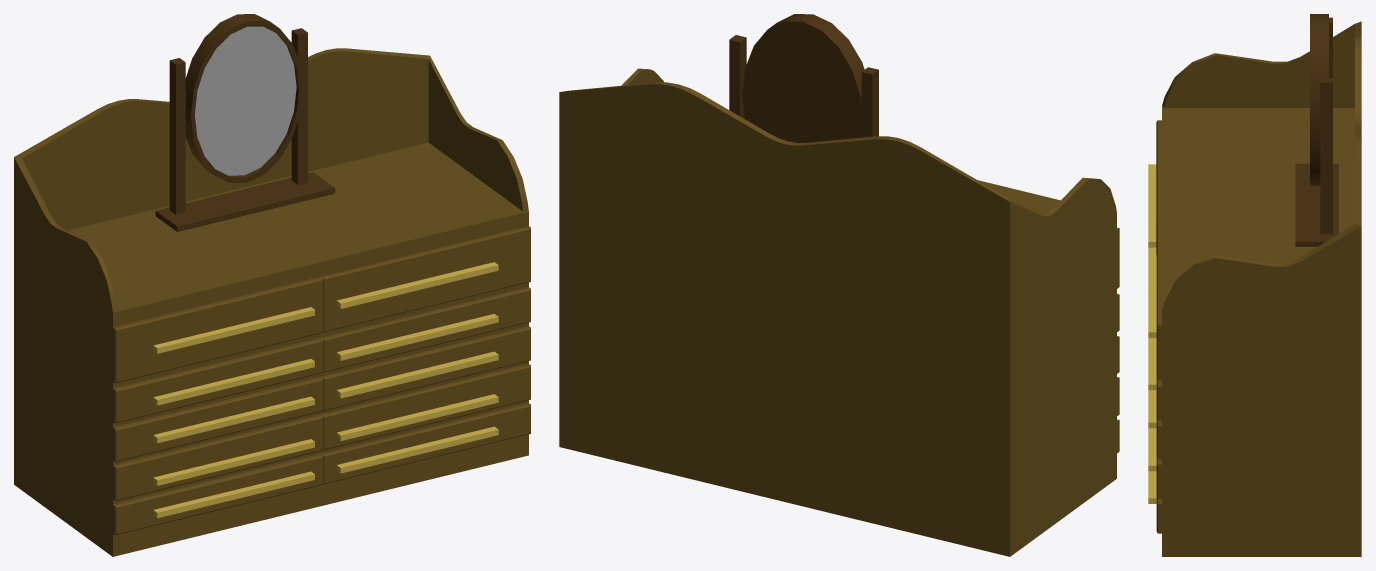
The model's file is Model_ChestOfDrawers.fbx.
The picture shows the model from 3 angles, left to right: view 1: azimuth 30°, elevation 25°; view 2: azimuth 150°, elevation 25°; view 3: azimuth 270°, elevation 25°; orthographic projection. The views are drawn at different scales.
Parts seen in each view (by area): view 1: pCube29, pCylinder30, pCube40, pCube38, pCube39, pCube45, pCube49, pCube43, pCube47, pCube42, pCube46, pCube50 (+3 smaller); view 2: pCube29, pCylinder30, pCube39, pCube38; view 3: pCube29, pCube40, pCylinder30, pCube39, pCube41, pCube42, pCube43, pCube47, pCube45, pCube49.
Part boxes in pixels (left/top/right/bottom): pCube29: left=14, top=48, right=530, bottom=556; pCylinder30: left=185, top=14, right=302, bottom=182; pCube40: left=155, top=172, right=335, bottom=231; pCube38: left=169, top=58, right=185, bottom=214; pCube39: left=291, top=28, right=307, bottom=184; pCube45: left=336, top=351, right=498, bottom=398; pCube49: left=336, top=426, right=498, bottom=473; pCube43: left=336, top=314, right=498, bottom=360; pCube47: left=336, top=394, right=498, bottom=440; pCube42: left=336, top=262, right=498, bottom=308; pCube46: left=153, top=396, right=314, bottom=443; pCube50: left=153, top=471, right=314, bottom=518; pCube29: left=559, top=68, right=1119, bottom=556; pCylinder30: left=742, top=14, right=864, bottom=142; pCube39: left=729, top=35, right=746, bottom=118; pCube38: left=861, top=67, right=878, bottom=137; pCube29: left=1156, top=21, right=1361, bottom=556; pCube40: left=1295, top=163, right=1338, bottom=246; pCylinder30: left=1310, top=14, right=1328, bottom=186; pCube39: left=1320, top=78, right=1332, bottom=234; pCube41: left=1148, top=164, right=1156, bottom=247; pCube42: left=1148, top=254, right=1156, bottom=337; pCube43: left=1148, top=338, right=1156, bottom=390; pCube47: left=1148, top=428, right=1156, bottom=471; pCube45: left=1148, top=390, right=1156, bottom=428; pCube49: left=1148, top=471, right=1156, bottom=503.
Bounding box in the file's own units: 2 × 1.98 × 0.8792.
